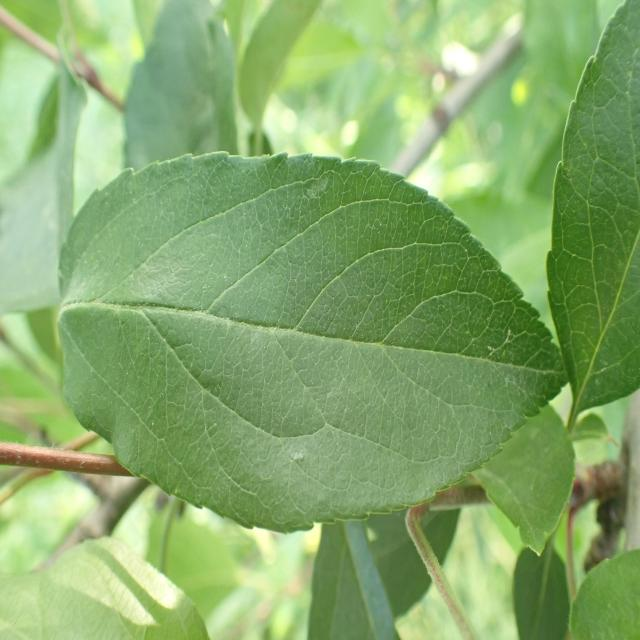healthy: (60, 149, 568, 534), (546, 0, 640, 418), (1, 536, 211, 640), (568, 547, 639, 640)
